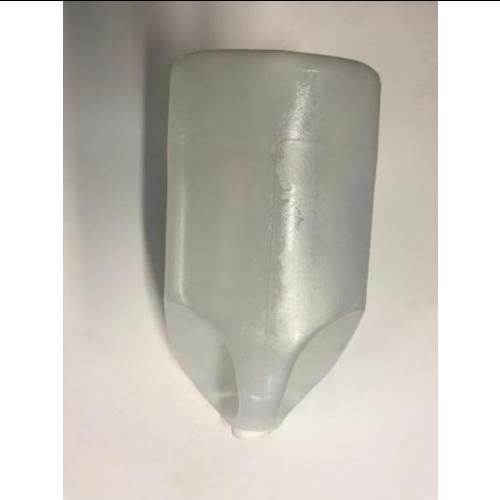plastic: (168, 51, 382, 433)
